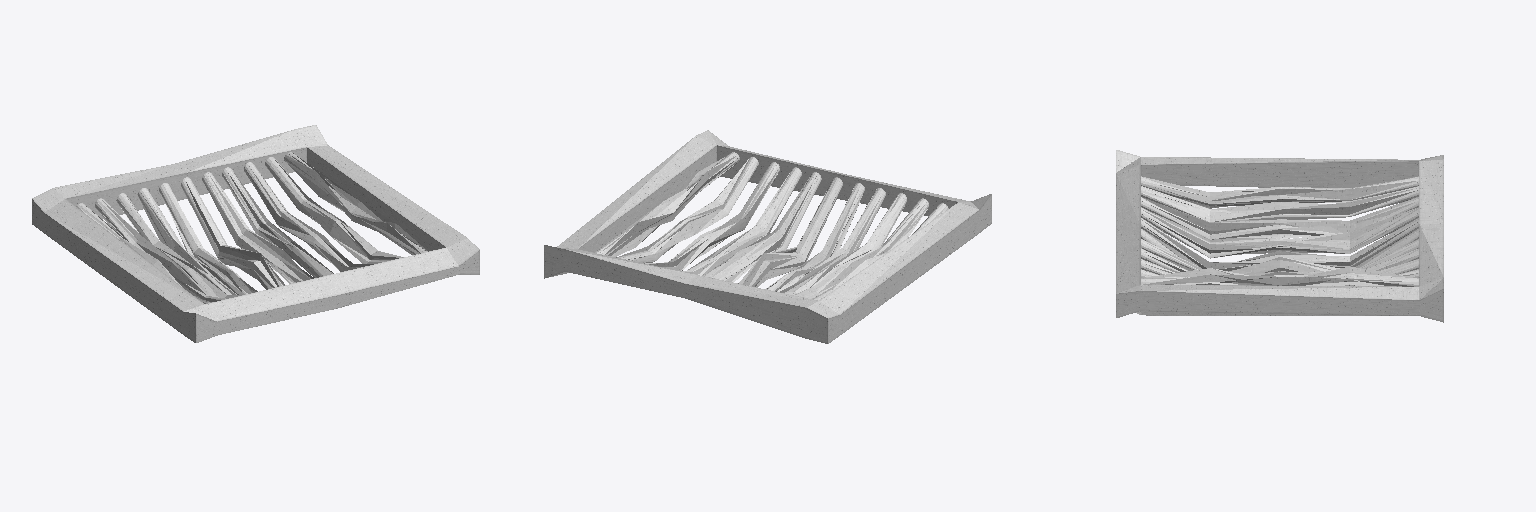
3 views of the same model, side by side, from view 1: azimuth 30°, elevation 25°; view 2: azimuth 150°, elevation 25°; view 3: azimuth 270°, elevation 25° (orthographic).
Parts seen in each view (by area): view 1: grate-clean; view 2: grate-clean; view 3: grate-clean.
Boxes of the visible parts, box(x1,y1,x2,y2) form: grate-clean: box(32, 125, 479, 342); grate-clean: box(544, 130, 991, 343); grate-clean: box(1116, 150, 1443, 322).
Bounding box in the file's own units: 2 × 0.5059 × 2.
1 materials, 1 textured.